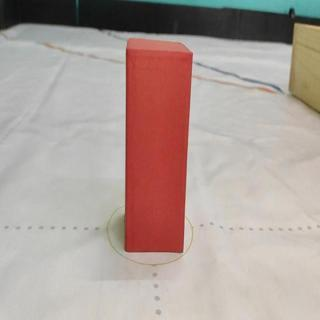redbox: (124, 36, 192, 254)
